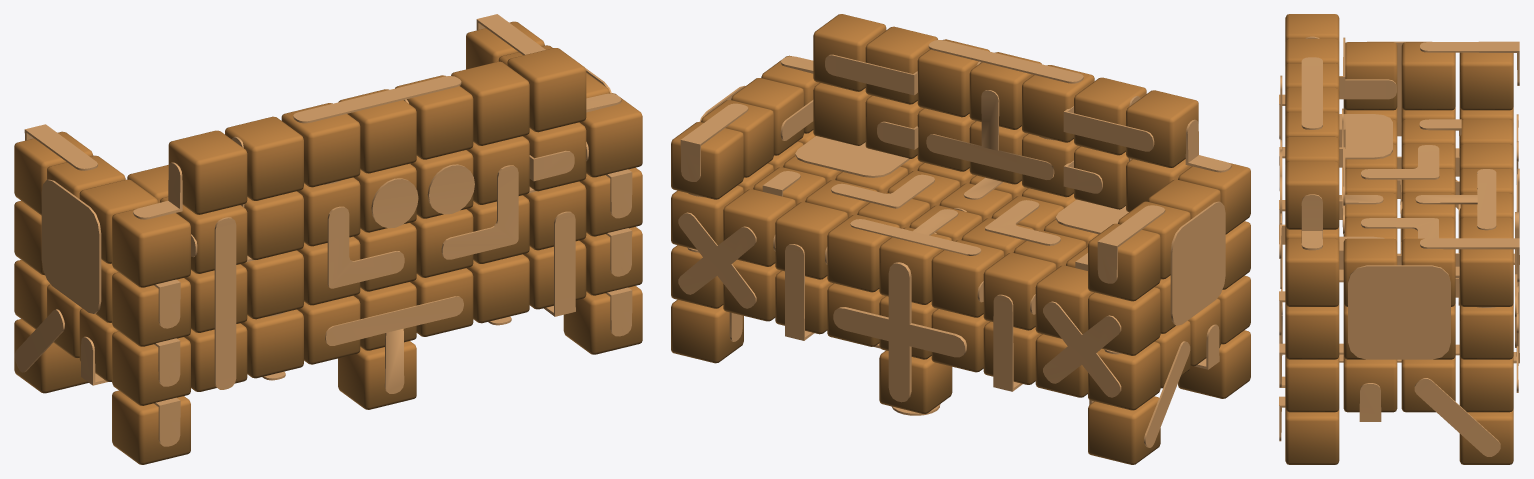
Rendered from level_127.fbx.
3 renders of one model, left to right at view 1: azimuth 30°, elevation 25°; view 2: azimuth 150°, elevation 25°; view 3: azimuth 270°, elevation 25°, orthographic. The views are drawn at different scales.
Parts seen in each view (by area): view 1: Link_29, Cube_L1_94.059, Cube_L1_94.095, Cube_L1_94.055, Cube_L1_94.057, Cube_L1_94.053, Cube_L1_94.058, Link_67, Cube_L1_94.054, Link_51, Cube_L1_94.056, Cube_L1_94.024 (+57 smaller); view 2: Link_6, Link_29, Cube_L1_94.059, Link_23, Link_22, Cube_L1_94.097, Cube_L1_94.050, Cube_L1_94.023, Cube_L1_94.040, Cube_L1_94.006, Link_39, Cube_L1_94.092 (+72 smaller); view 3: Link_28, Cube_L1_94.024, Cube_L1_94.044, Cube_L1_94.050, Cube_L1_94.023, Cube_L1_94.055, Cube_L1_94.084, Cube_L1_94.083, Cube_L1_94.020, Cube_L1_94.093, Cube_L1_94.019, Cube_L1_94.048 (+49 smaller).
Boxes of the visible parts, <box> form: Link_29: <box>41,179,101,313</box>; Cube_L1_94.059: <box>168,130,247,214</box>; Cube_L1_94.095: <box>112,209,190,287</box>; Cube_L1_94.055: <box>507,48,586,132</box>; Cube_L1_94.057: <box>451,61,529,145</box>; Cube_L1_94.053: <box>225,116,303,200</box>; Cube_L1_94.058: <box>281,103,360,187</box>; Link_67: <box>325,296,463,393</box>; Cube_L1_94.054: <box>395,75,473,159</box>; Link_51: <box>214,217,236,389</box>; Cube_L1_94.056: <box>338,89,416,173</box>; Cube_L1_94.024: <box>580,93,642,177</box>; Link_6: <box>833,262,966,402</box>; Link_29: <box>1170,201,1225,325</box>; Cube_L1_94.059: <box>1126,90,1198,167</box>; Link_23: <box>1043,301,1121,397</box>; Link_22: <box>678,212,756,308</box>; Cube_L1_94.097: <box>1088,396,1160,464</box>; Cube_L1_94.050: <box>1088,223,1160,301</box>; Cube_L1_94.023: <box>671,122,743,199</box>; Cube_L1_94.040: <box>931,240,1004,317</box>; Cube_L1_94.006: <box>827,214,899,292</box>; Link_39: <box>926,90,1054,179</box>; Cube_L1_94.092: <box>671,299,743,363</box>; Link_28: <box>1348,265,1450,359</box>; Cube_L1_94.024: <box>1285,238,1339,306</box>; Cube_L1_94.044: <box>1401,42,1455,110</box>; Cube_L1_94.050: <box>1459,52,1513,110</box>; Cube_L1_94.023: <box>1459,249,1513,306</box>; Cube_L1_94.055: <box>1285,161,1339,229</box>; Cube_L1_94.084: <box>1285,356,1339,412</box>; Cube_L1_94.083: <box>1459,356,1513,412</box>; Cube_L1_94.020: <box>1285,303,1339,359</box>; Cube_L1_94.093: <box>1285,409,1339,464</box>; Cube_L1_94.019: <box>1459,303,1513,359</box>; Cube_L1_94.048: <box>1343,42,1397,110</box>.
Size of the model in its own units: 19.34 by 10.81 by 8.76.
